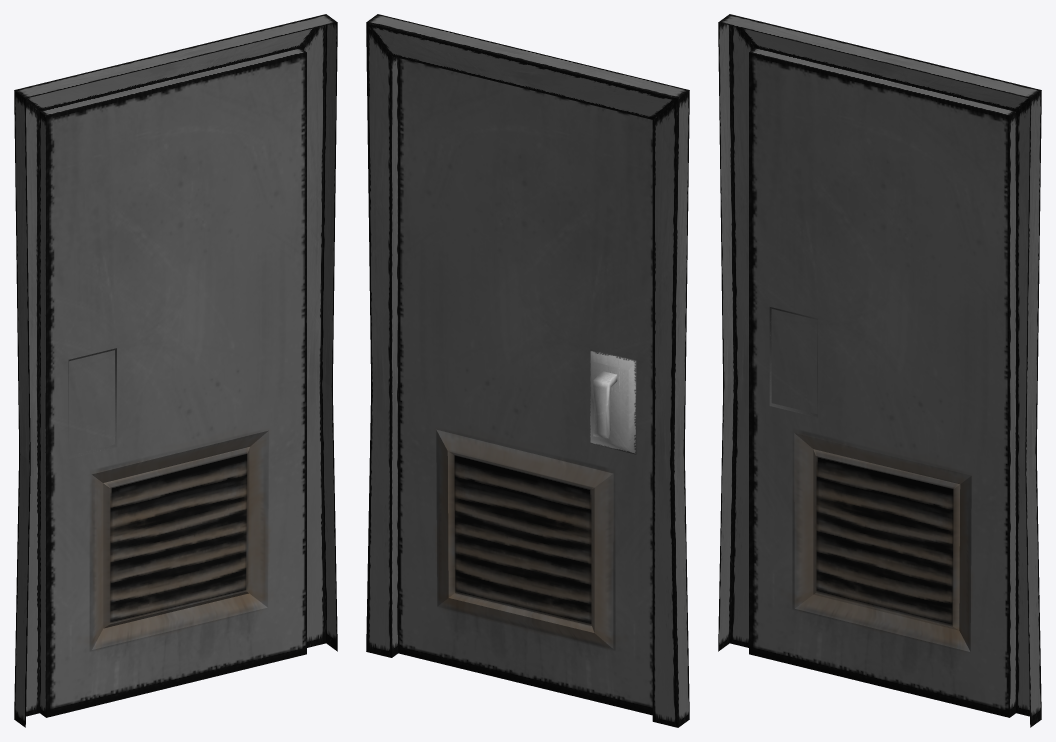
The model's file is SM_Door_01.fbx.
The picture shows the model from 3 angles, left to right: view 1: azimuth 30°, elevation 25°; view 2: azimuth 150°, elevation 25°; view 3: azimuth 330°, elevation 25°; orthographic projection.
Parts seen in each view (by area): view 1: SM_Door_01; view 2: SM_Door_01; view 3: SM_Door_01.
Part boxes in pixels (x1,y1,x2,y2): SM_Door_01: [14, 14, 337, 727]; SM_Door_01: [366, 14, 689, 727]; SM_Door_01: [718, 14, 1041, 727].
Size of the model in its own units: 199 by 383 by 20.51.
